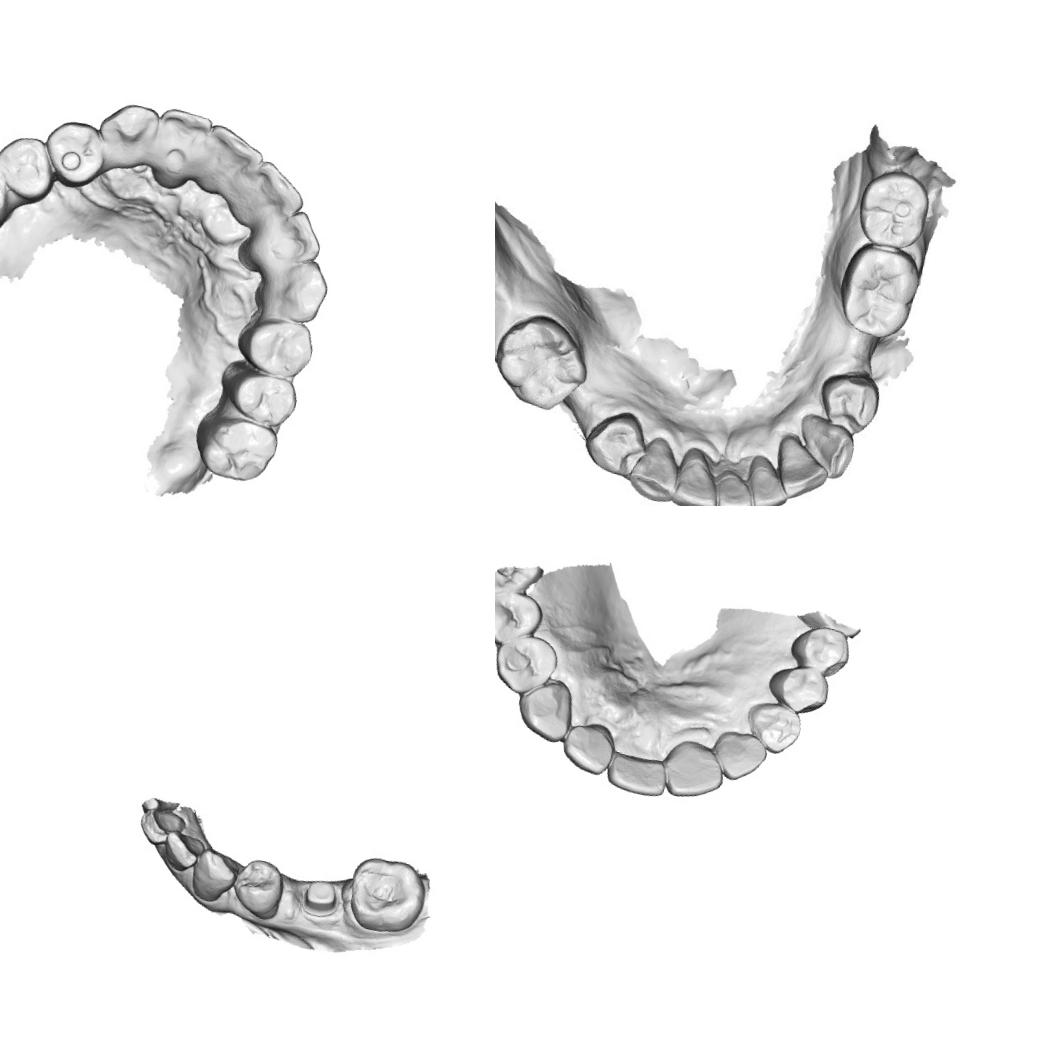abutment: (298, 875, 342, 921)
canine: (248, 248, 330, 328), (90, 95, 161, 177), (510, 672, 579, 746), (791, 405, 857, 480), (623, 434, 680, 506), (741, 697, 806, 758), (186, 844, 241, 906)
incisor: (246, 198, 331, 283), (230, 154, 312, 238), (144, 103, 218, 184), (194, 121, 269, 200), (654, 734, 730, 805), (764, 436, 830, 504), (706, 726, 770, 787), (558, 717, 618, 778), (602, 748, 671, 800), (734, 450, 797, 506), (667, 454, 722, 506), (708, 459, 763, 506), (159, 827, 209, 877), (135, 806, 188, 850)
molar: (495, 303, 600, 422), (832, 237, 925, 343), (849, 164, 938, 260), (186, 405, 284, 489), (341, 852, 432, 940), (0, 148, 21, 245)
premolar: (229, 308, 321, 386), (210, 362, 303, 434), (36, 114, 113, 196), (577, 399, 653, 480), (0, 129, 62, 208), (495, 629, 561, 701), (227, 854, 290, 924), (763, 658, 833, 720), (786, 620, 854, 682), (818, 368, 880, 432), (495, 584, 547, 653)
